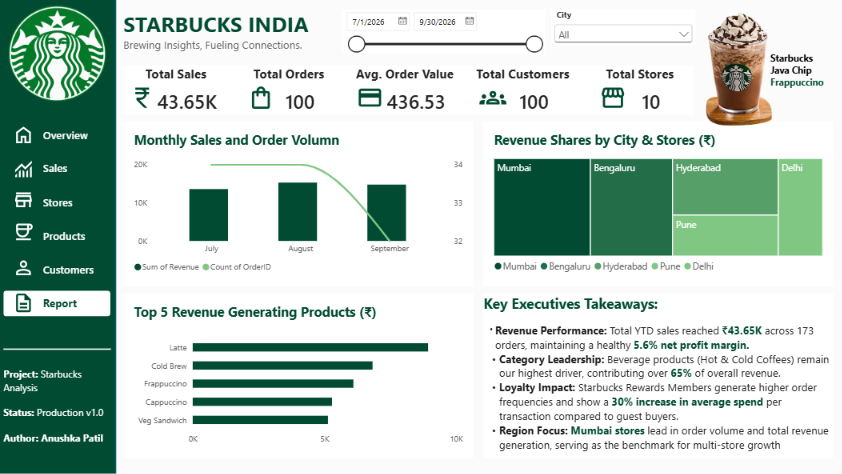

What the dashboard file says about the page in this screenshot:
{"tool":"powerbi","page":{"name":"Report","canvas":[1280,720],"ordinal":5},"visuals":[{"type":"shape","box":[0,0,178.6,720.2],"z":0,"group":"g1"},{"type":"group","id":"g1","title":"Group 1","box":[0,0,178.6,720.2],"z":0},{"type":"cardVisual","title":"Total Sales","fields":{"Data":["_Measures (2).Total Sales"]},"box":[190,100,159,75],"z":0,"group":"g2"},{"type":"image","box":[6,8.4,166.5,147.2],"z":1000,"group":"g1"},{"type":"cardVisual","title":"Total Orders","fields":{"Data":["_Measures (2).Total Orders"]},"box":[361.9,100.1,159,75],"z":1000,"group":"g2"},{"type":"pageNavigator","box":[7.2,185.8,162.9,294.4],"z":1000},{"type":"cardVisual","title":"Avg. Order Value","fields":{"Data":["_Measures (2).Average Order Value"]},"box":[536.9,100.1,159,75],"z":2000,"group":"g2"},{"type":"image","box":[21.7,185.8,33.8,38.6],"z":2000},{"type":"cardVisual","title":"Total Stores","fields":{"Data":["_Measures (2).Total Stores"]},"box":[893.4,100,159.3,76],"z":3000,"group":"g2"},{"type":"image","box":[21.7,237.7,33.8,38.6],"z":3000},{"type":"cardVisual","title":"Total Customers","fields":{"Data":["_Measures (2).Total Customers"]},"box":[715.4,100.1,159,75],"z":4000,"group":"g2"},{"type":"image","box":[21.7,284.7,33.8,38.6],"z":4000},{"type":"image","box":[196,129.1,44.6,41],"z":5000,"group":"g2"},{"type":"image","box":[21.7,333,33.8,38.6],"z":5000},{"type":"image","box":[376,129,44,41],"z":6000,"group":"g2"},{"type":"image","box":[21.7,387.3,33.8,38.6],"z":6000},{"type":"image","box":[542,129,44,41],"z":7000,"group":"g2"},{"type":"image","box":[21.7,441.6,33.8,38.6],"z":7000},{"type":"textbox","box":[190,15,320,64],"z":8000},{"type":"image","box":[728,129,44,41],"z":8000,"group":"g2"},{"type":"textbox","box":[7.2,557.4,162.9,154.4],"z":8000,"group":"g1"},{"type":"group","id":"g2","title":"Group 2","box":[190,100,862.6,76],"z":9000},{"type":"image","box":[910,129,44,41],"z":9000,"group":"g2"},{"type":"shape","box":[7.2,515.2,162.9,30.2],"z":9000,"group":"g1"},{"type":"slicer","fields":{"Values":["Sales_Data.Date"]},"box":[520,14.5,308.8,67.6],"z":10000},{"type":"slicer","fields":{"Values":["Stores.City"]},"box":[837.3,14.5,218.4,55.5],"z":11000},{"type":"lineClusteredColumnComboChart","title":"Monthly Sales and Order Volumn","fields":{"Category":["Sales_Data.Date.Variation.Date Hierarchy.Month"],"Y":["Sum(Sales_Data.Revenue)"],"Y2":["CountNonNull(Sales_Data.OrderID)"]},"box":[190,185,530,250],"z":12000},{"type":"treemap","title":"Revenue Shares by City & Stores (₹)","fields":{"Group":["Stores.City"],"Values":["Sum(Sales_Data.Revenue)"]},"box":[735,185,530,250],"z":13000},{"type":"clusteredBarChart","title":"Top 5 Revenue Generating Products (₹)","fields":{"Category":["Products.Product"],"Y":["Sum(Sales_Data.Revenue)"]},"box":[190,445,530,250],"z":14000},{"type":"group","id":"g3","title":"Group 1","box":[995.5,0,272,224.4],"z":15000},{"type":"textbox","box":[1169.8,78.4,97.7,59.1],"z":16000,"group":"g3"},{"type":"textbox","title":"Key Executives Takeaways:","box":[735,445,530,250],"z":16000},{"type":"image","box":[995.5,0,250.9,224.4],"z":17000,"group":"g3"}]}

Visuals, with their boxes on the page's 1280x720 design canvas (x1, y1, x2, y2). These are canvas units, not pixel positions in the 842x474 screenshot, which may show the page scaled, cropped or inside an application window:
shape: region(0, 0, 179, 720)
"Group 1" group: region(0, 0, 179, 720)
"Total Sales" cardVisual: region(190, 100, 349, 175)
image: region(6, 8, 172, 156)
"Total Orders" cardVisual: region(362, 100, 521, 175)
pageNavigator: region(7, 186, 170, 480)
"Avg. Order Value" cardVisual: region(537, 100, 696, 175)
image: region(22, 186, 56, 224)
"Total Stores" cardVisual: region(893, 100, 1053, 176)
image: region(22, 238, 56, 276)
"Total Customers" cardVisual: region(715, 100, 874, 175)
image: region(22, 285, 56, 323)
image: region(196, 129, 241, 170)
image: region(22, 333, 56, 372)
image: region(376, 129, 420, 170)
image: region(22, 387, 56, 426)
image: region(542, 129, 586, 170)
image: region(22, 442, 56, 480)
textbox: region(190, 15, 510, 79)
image: region(728, 129, 772, 170)
textbox: region(7, 557, 170, 712)
"Group 2" group: region(190, 100, 1053, 176)
image: region(910, 129, 954, 170)
shape: region(7, 515, 170, 545)
slicer - Sales_Data.Date: region(520, 14, 829, 82)
slicer - Stores.City: region(837, 14, 1056, 70)
"Monthly Sales and Order Volumn" lineClusteredColumnComboChart: region(190, 185, 720, 435)
"Revenue Shares by City & Stores (₹)" treemap: region(735, 185, 1265, 435)
"Top 5 Revenue Generating Products (₹)" clusteredBarChart: region(190, 445, 720, 695)
"Group 1" group: region(996, 0, 1268, 224)
textbox: region(1170, 78, 1268, 138)
"Key Executives Takeaways:" textbox: region(735, 445, 1265, 695)
image: region(996, 0, 1246, 224)
